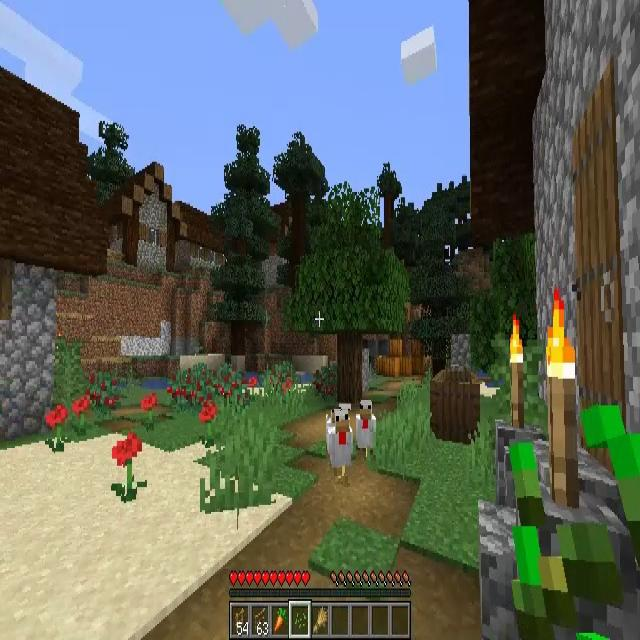duck: (326, 410, 356, 476), (354, 396, 376, 449)
